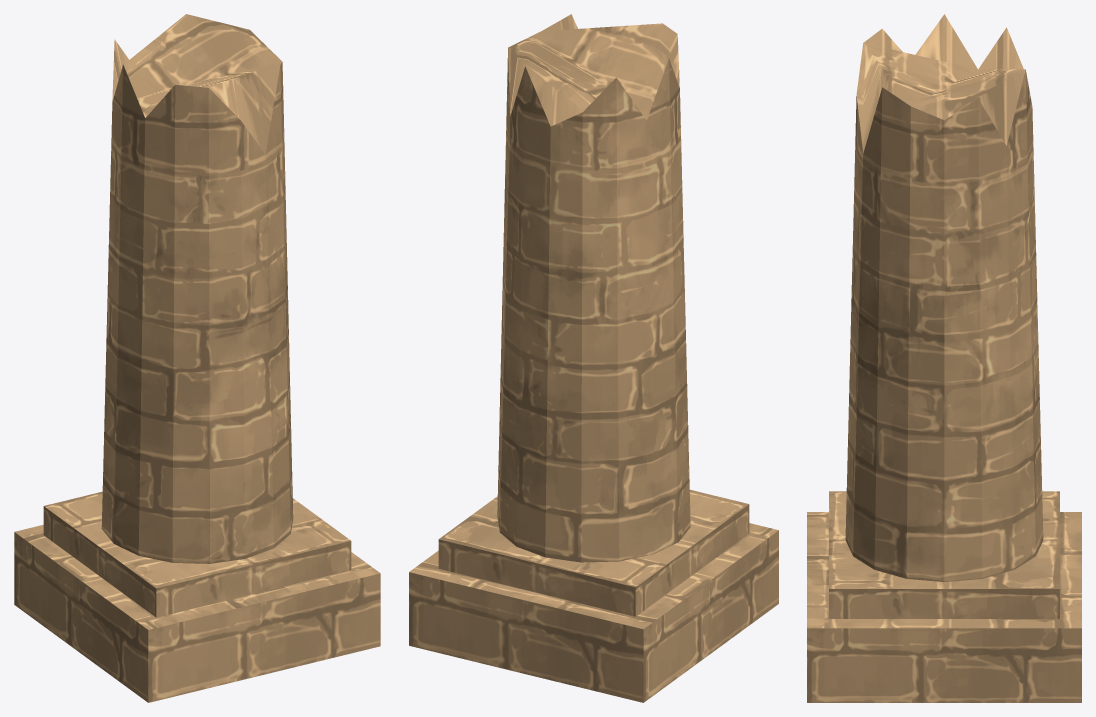
The model's file is column_broken.gltf.
3 views of the same model, side by side, from view 1: azimuth 30°, elevation 25°; view 2: azimuth 150°, elevation 25°; view 3: azimuth 270°, elevation 25° (orthographic). The views are drawn at different scales.
Parts seen in each view (by area): view 1: column_broken; view 2: column_broken; view 3: column_broken.
Part boxes in pixels (x1=…): column_broken: x1=14, y1=14, x2=380, y2=702; column_broken: x1=409, y1=14, x2=778, y2=702; column_broken: x1=807, y1=14, x2=1081, y2=702.
Bounding box in the file's own units: 1 × 2.38 × 1.
Materials: 1 (1 with a texture image).
